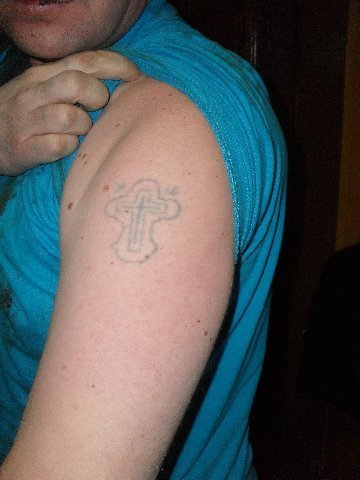tatu9_krest: (106, 172, 183, 271)
